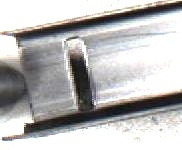40ngpress: (0, 12, 135, 141)
